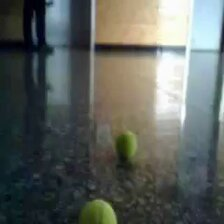tennis: (77, 198, 118, 224), (116, 132, 138, 160)
